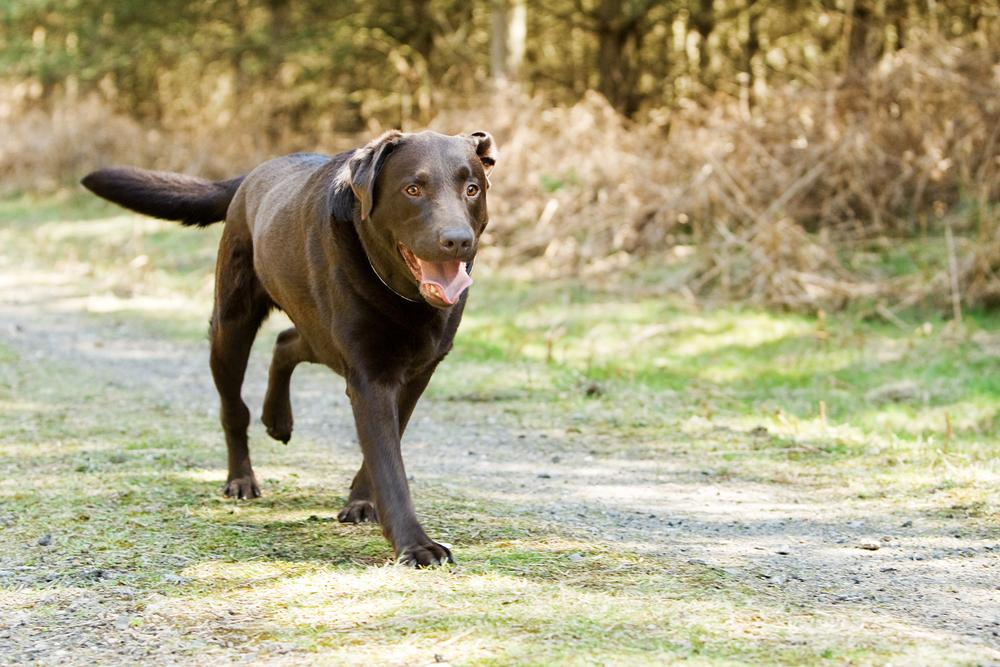fracture: (176, 285, 379, 460)
